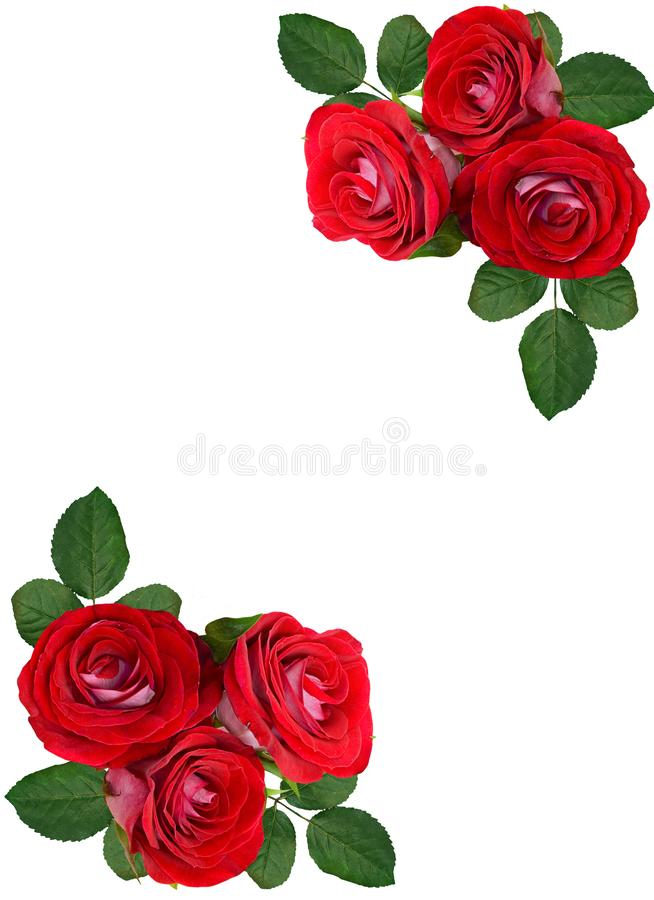RedRose: (194, 612, 395, 795), (450, 110, 645, 286), (21, 604, 214, 769), (289, 78, 447, 278), (94, 729, 280, 887), (418, 2, 573, 163)
